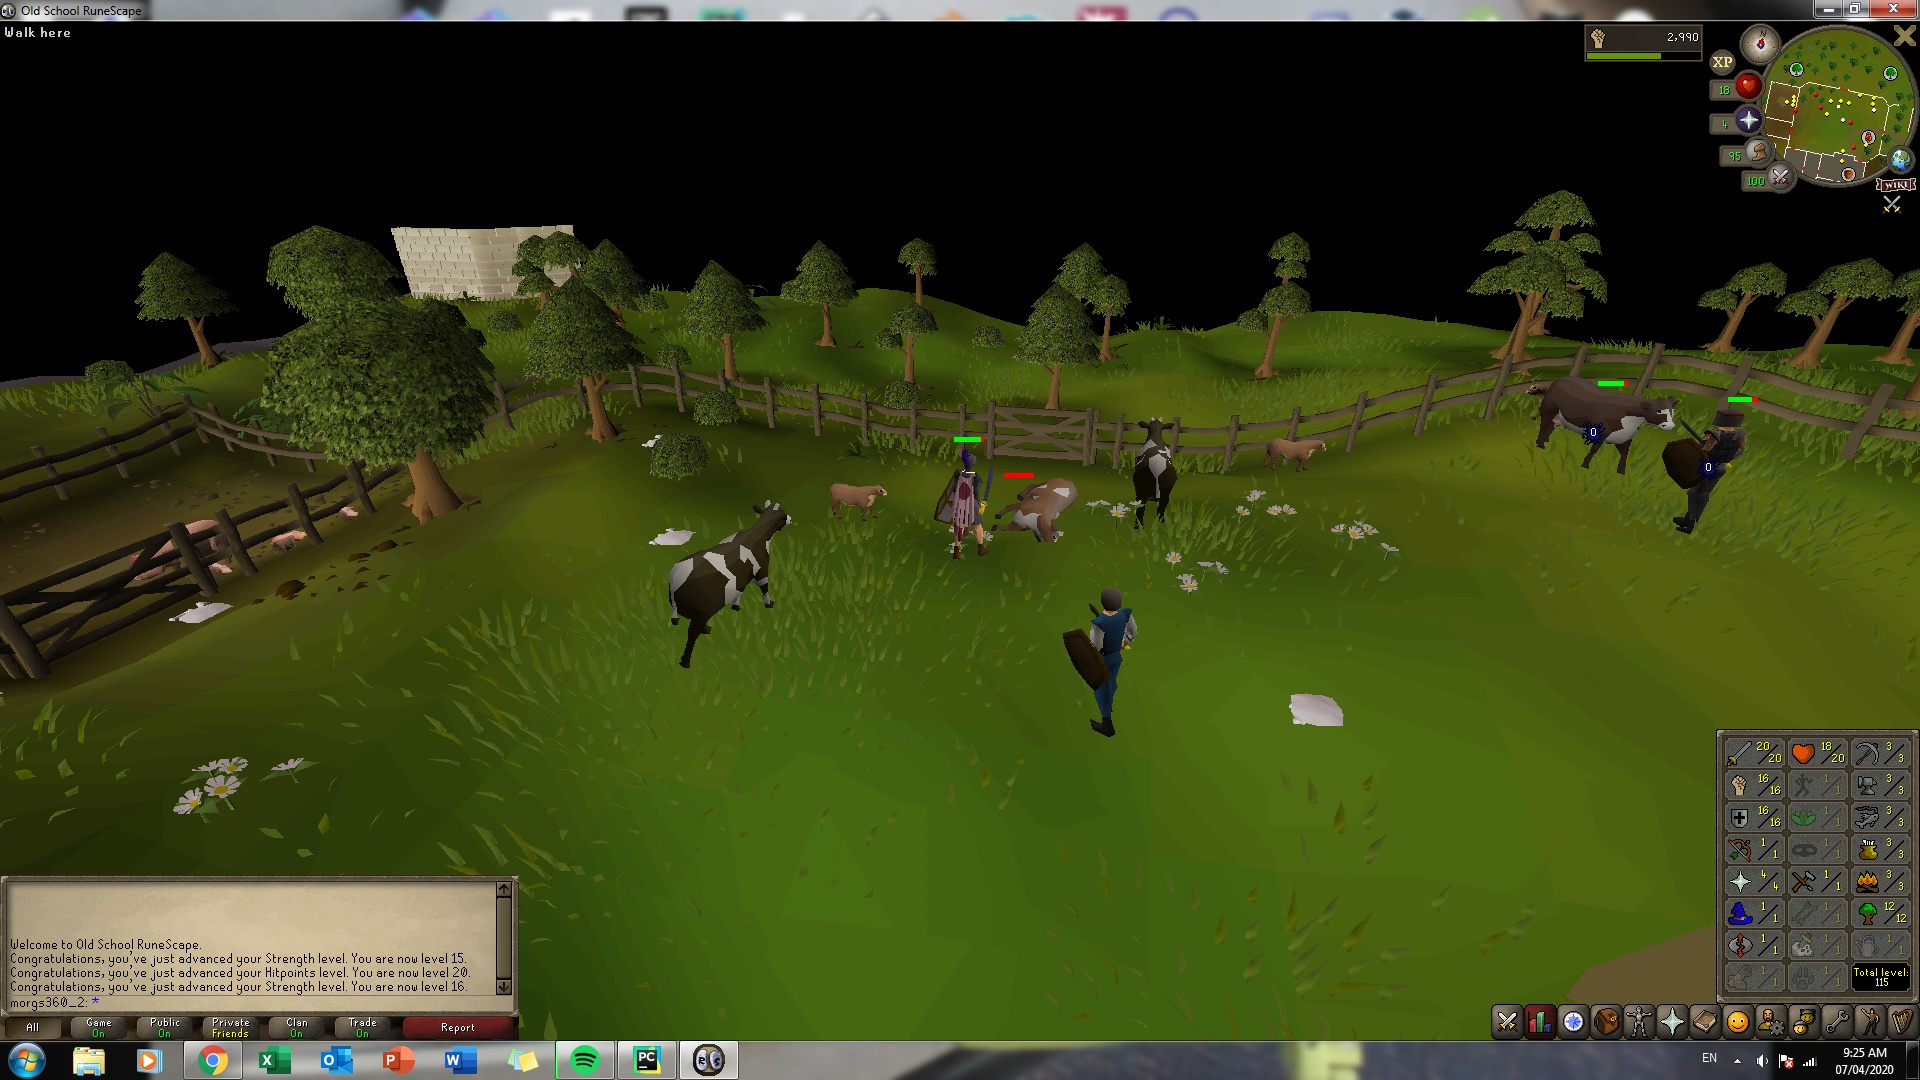cow: (657, 496, 794, 673), (1531, 359, 1677, 483), (996, 468, 1083, 553), (1126, 417, 1182, 531)
